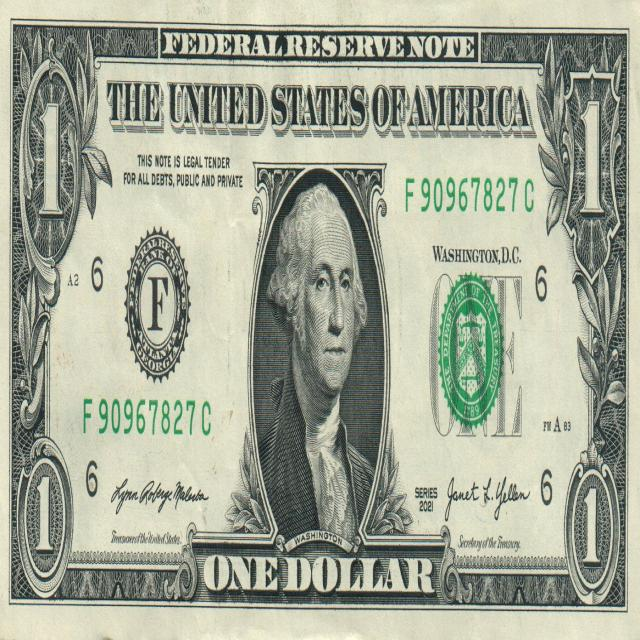SerialNumber: (83, 399, 210, 435), (406, 177, 518, 212)
